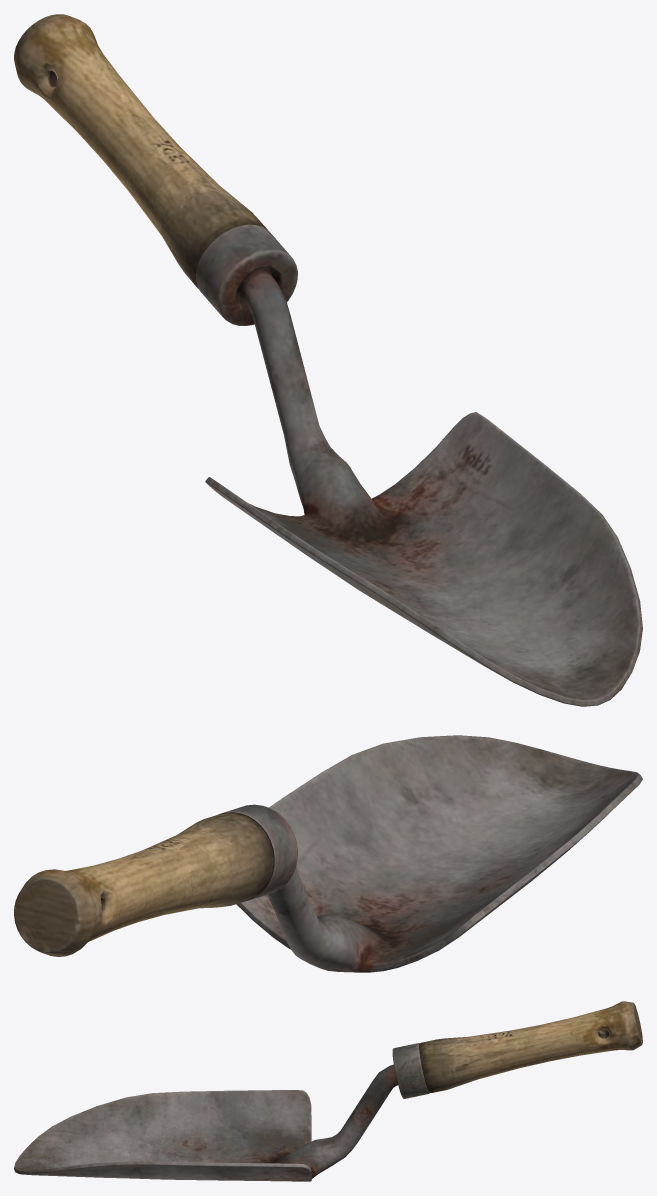
File: trowel_01.glb
3 renders of one model, top to bottom at view 1: azimuth 30°, elevation 25°; view 2: azimuth 150°, elevation 25°; view 3: azimuth 270°, elevation 25°, orthographic. The views are drawn at different scales.
Parts seen in each view (by area): view 1: trowel_01; view 2: trowel_01; view 3: trowel_01.
Boxes of the visible parts, x1,y1,x2,y2 form: trowel_01: (14, 14, 642, 706); trowel_01: (14, 735, 642, 972); trowel_01: (14, 1001, 642, 1181).
Bounding box in the file's own units: 0.0991 × 0.1026 × 0.3469.
Materials: 1 (1 with a texture image).
